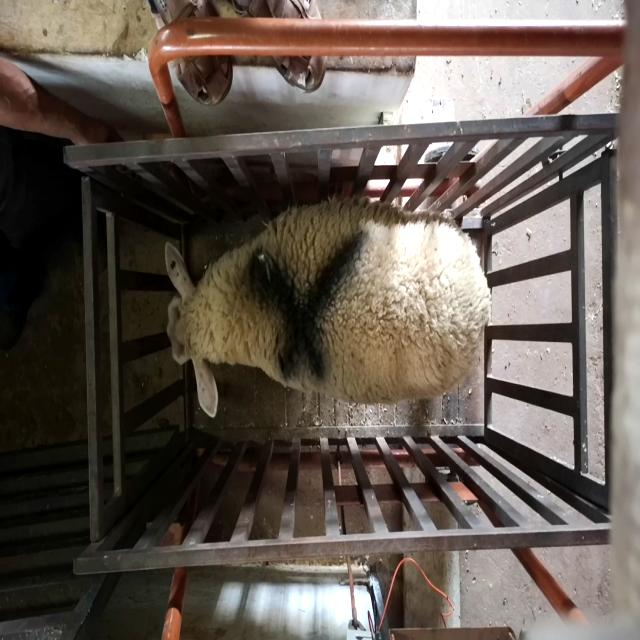sheep: (165, 198, 492, 418)
